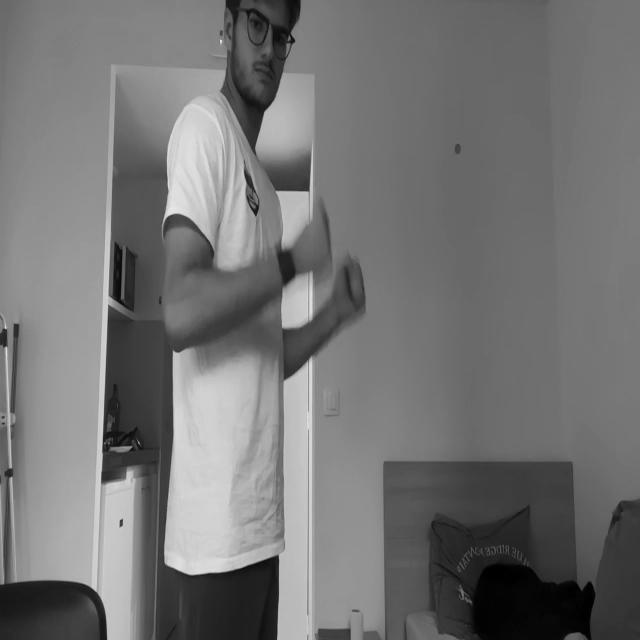elbow: (160, 268, 198, 352)
hand: (296, 205, 331, 278), (334, 254, 367, 326)
shoulder: (166, 102, 227, 196)
